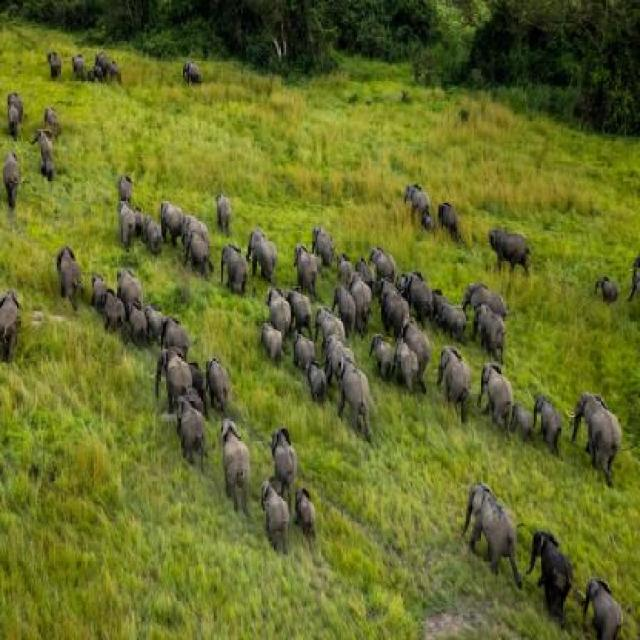elephant: (559, 380, 624, 498), (522, 518, 583, 616), (469, 471, 523, 569), (332, 362, 383, 456), (436, 334, 472, 421), (480, 352, 517, 433), (584, 569, 624, 640), (489, 219, 536, 276), (258, 482, 291, 563), (222, 419, 256, 495), (297, 487, 335, 550), (432, 292, 473, 350), (51, 238, 80, 316), (175, 399, 208, 461), (245, 217, 284, 269), (268, 429, 300, 491), (403, 264, 437, 322), (478, 302, 513, 358), (408, 172, 440, 232), (0, 282, 25, 358), (157, 349, 194, 400), (378, 281, 408, 341), (394, 321, 437, 362), (181, 218, 210, 278), (464, 285, 516, 318), (216, 248, 250, 298), (162, 314, 198, 361), (178, 344, 208, 398), (290, 279, 316, 341), (204, 352, 231, 406), (348, 249, 382, 291), (323, 330, 359, 368), (587, 259, 615, 307), (538, 394, 560, 452), (373, 324, 399, 371), (106, 298, 129, 350), (345, 277, 369, 325), (262, 330, 288, 373), (38, 123, 62, 166), (125, 196, 152, 233), (272, 278, 291, 330), (109, 168, 129, 217), (122, 265, 144, 309), (39, 35, 59, 83), (320, 298, 346, 334), (392, 341, 414, 382), (514, 395, 535, 437), (292, 322, 314, 362), (444, 200, 467, 237), (123, 313, 148, 347), (8, 144, 22, 204), (332, 288, 352, 330), (178, 54, 204, 86), (92, 270, 110, 315), (304, 368, 330, 399), (362, 252, 393, 278), (143, 215, 160, 262), (329, 239, 349, 278), (8, 79, 27, 119), (314, 220, 332, 262), (148, 300, 167, 338), (43, 153, 63, 189), (120, 204, 134, 253), (7, 103, 22, 148), (296, 241, 312, 281), (87, 54, 104, 88), (212, 186, 230, 214), (97, 51, 114, 80), (164, 192, 176, 232), (74, 49, 86, 88), (39, 105, 64, 120), (111, 59, 124, 86)
